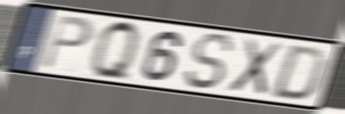6: (141, 28, 184, 83)
D: (267, 43, 330, 102)
P: (39, 13, 95, 72)
Q: (89, 17, 141, 85)
S: (182, 31, 236, 91)
X: (225, 36, 286, 98)
